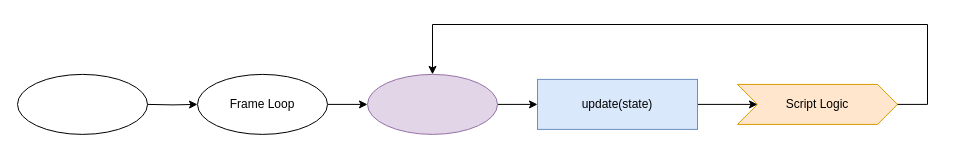
Some shapes in this 953 by 152 pixel diagram are drawn without their labels. Each missing label, with the centre of its shape:
"Enter Screen saver/ Boss screen" belongs at point (82, 103).
"Wait for Next Frame (1s / 60)" belongs at point (432, 103).
